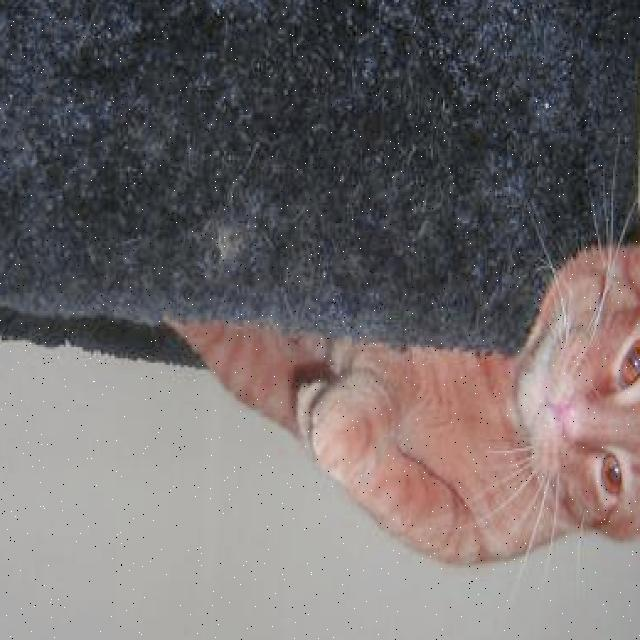Cat: (522, 223, 640, 572)
